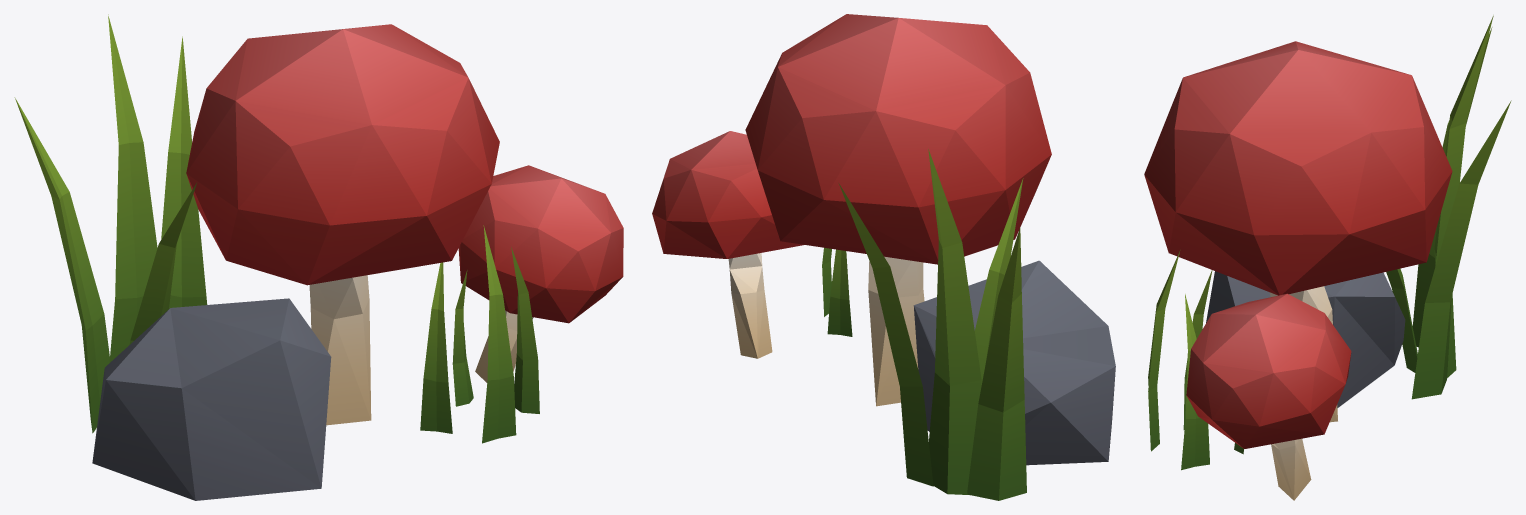
The model's file is Mushroom_04.fbx.
The picture shows the model from 3 angles, left to right: view 1: azimuth 30°, elevation 25°; view 2: azimuth 150°, elevation 25°; view 3: azimuth 270°, elevation 25°; orthographic projection. The views are drawn at different scales.
Visible parts, largest first — view 1: Mushroom_04; view 2: Mushroom_04; view 3: Mushroom_04.
Boxes of the visible parts, x1,y1,x2,y2 form: Mushroom_04: (14, 14, 623, 500); Mushroom_04: (652, 14, 1115, 500); Mushroom_04: (1144, 15, 1511, 500).
Bounding box in the file's own units: 0.5662 × 0.4433 × 0.3845.
